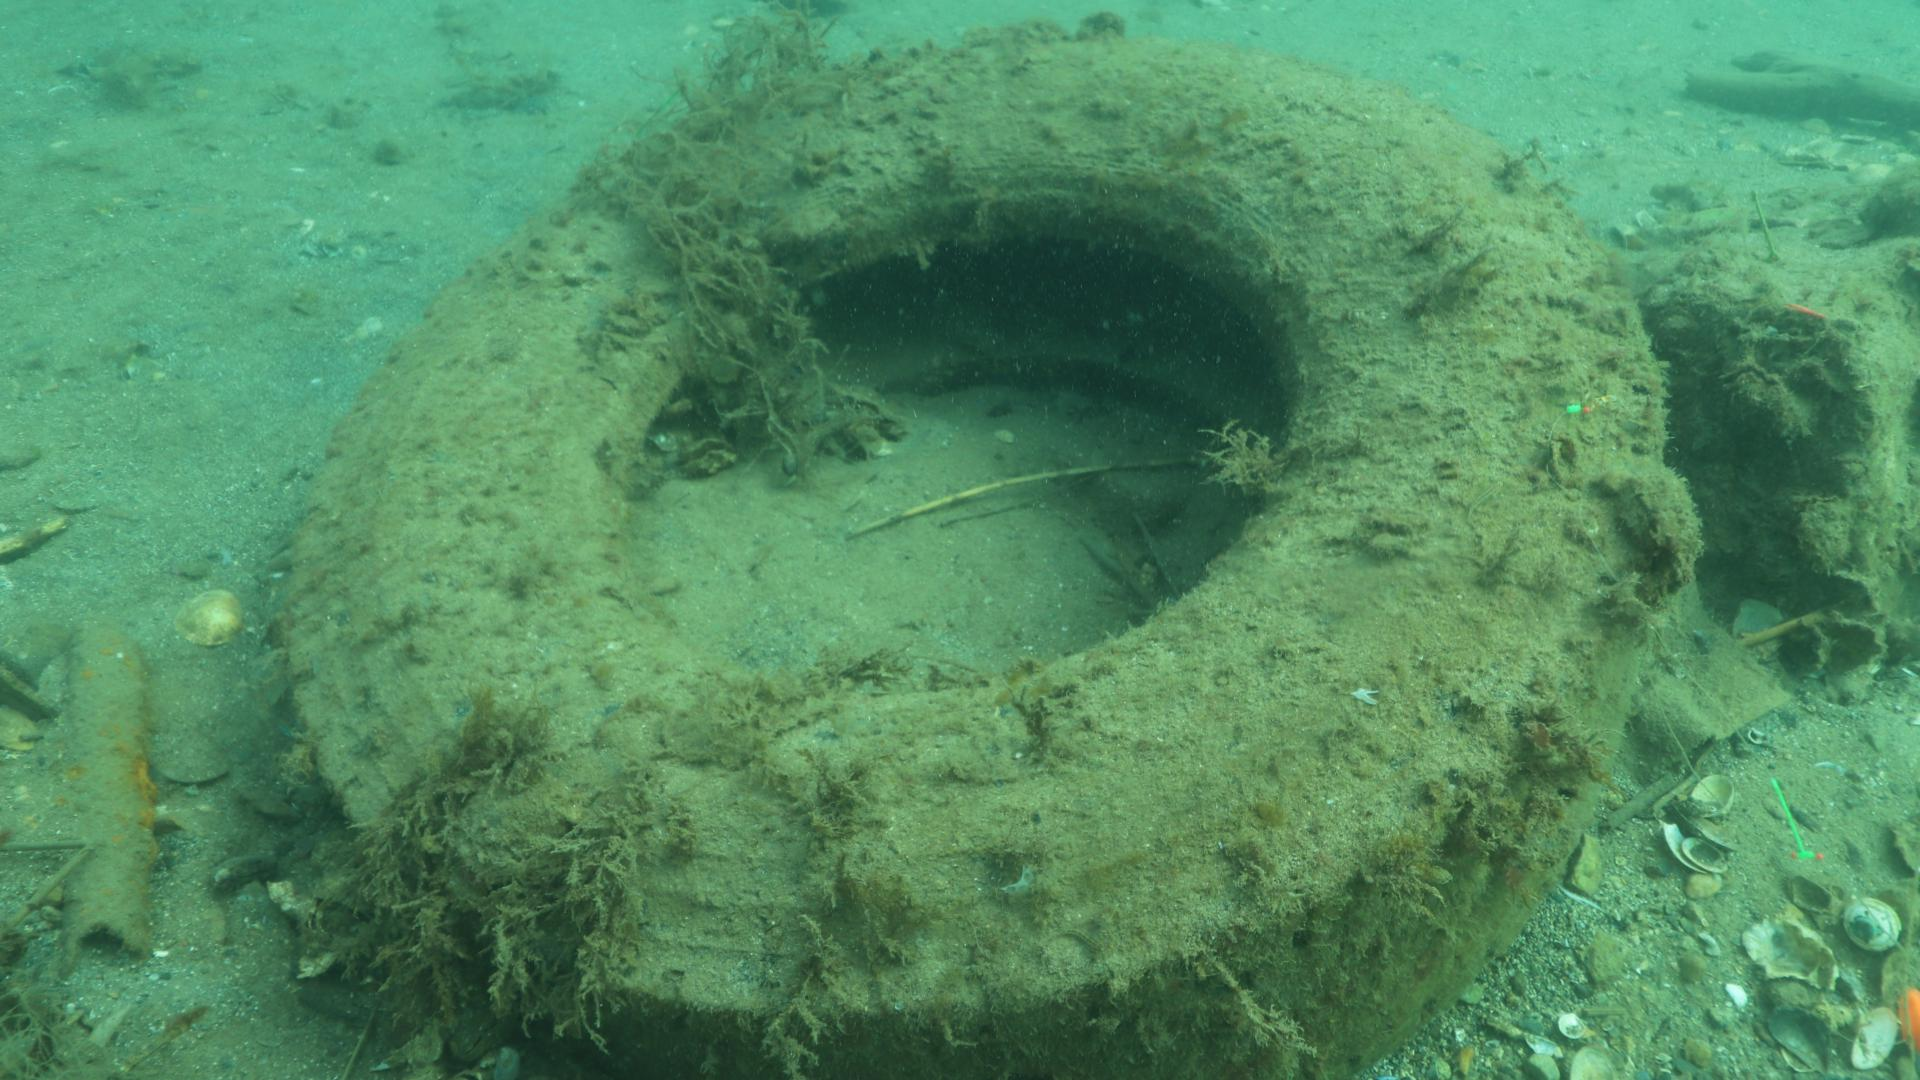tire: (286, 36, 1663, 1080)
